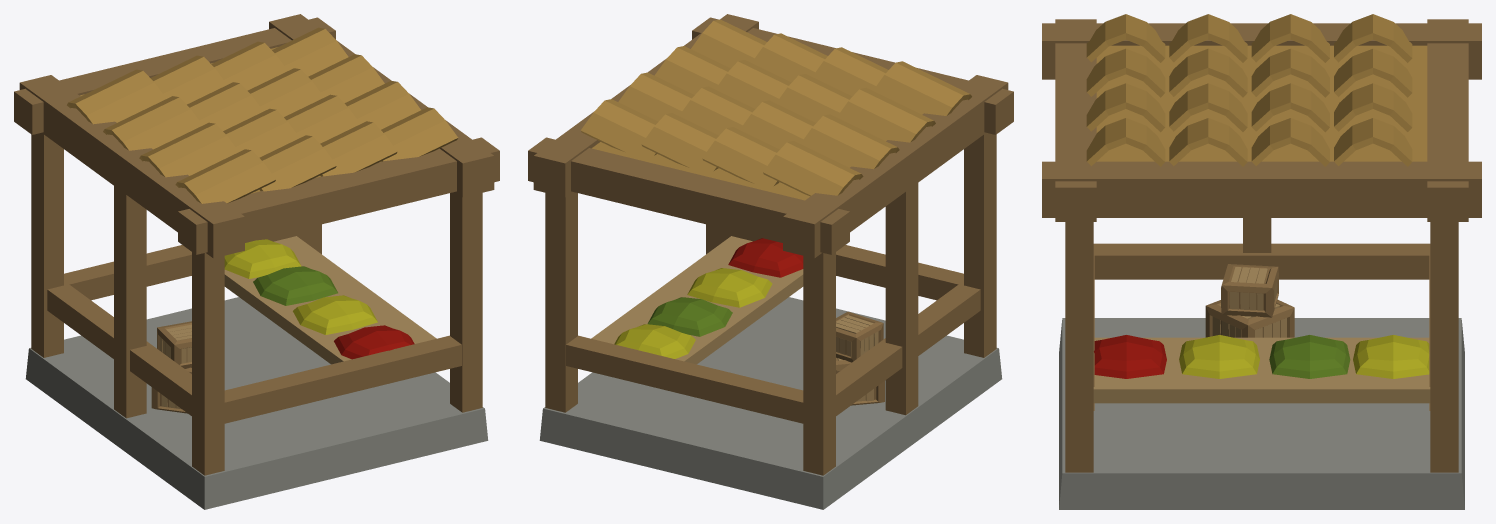
The model's file is Stall_2.fbx.
3 views of the same model, side by side, from view 1: azimuth 30°, elevation 25°; view 2: azimuth 150°, elevation 25°; view 3: azimuth 270°, elevation 25° (orthographic). The views are drawn at different scales.
Parts seen in each view (by area): view 1: Market_SecondAge_Level3; view 2: Market_SecondAge_Level3; view 3: Market_SecondAge_Level3.
Boxes of the visible parts, x1,y1,x2,y2 form: Market_SecondAge_Level3: [14, 14, 499, 509]; Market_SecondAge_Level3: [528, 14, 1013, 509]; Market_SecondAge_Level3: [1042, 14, 1481, 509].
Bounding box in the file's own units: 0.5872 × 0.5898 × 0.6485.
